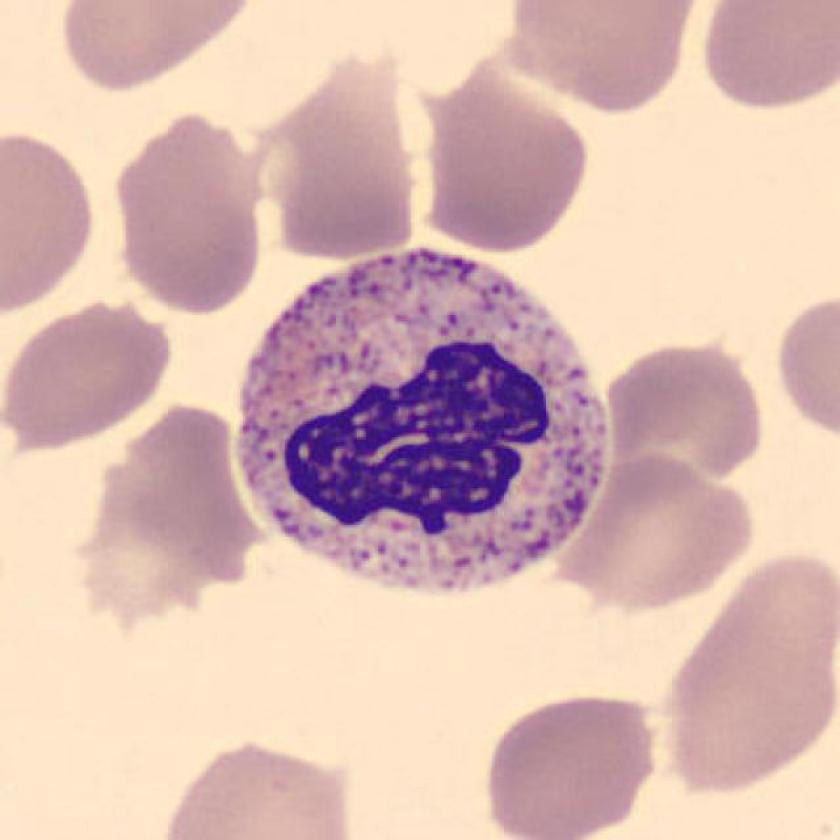neutrophil: (240, 247, 611, 596)
